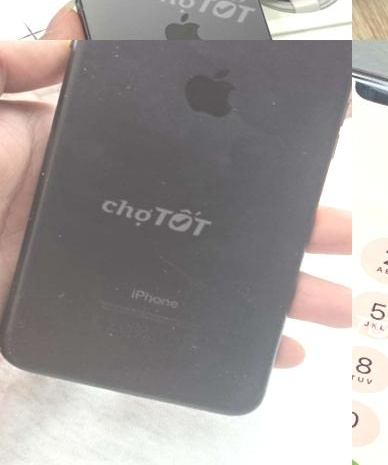scratch: (141, 243, 295, 312), (152, 319, 266, 393), (101, 268, 187, 320), (87, 40, 154, 105), (352, 40, 388, 150), (280, 132, 314, 158), (96, 323, 118, 340), (151, 40, 175, 55), (56, 80, 72, 101), (53, 279, 67, 302), (260, 91, 281, 106), (156, 170, 175, 186), (290, 238, 306, 257), (196, 195, 215, 210), (48, 229, 64, 243), (193, 113, 209, 125), (281, 205, 294, 216), (77, 60, 90, 70), (36, 167, 47, 178), (186, 69, 194, 76)
